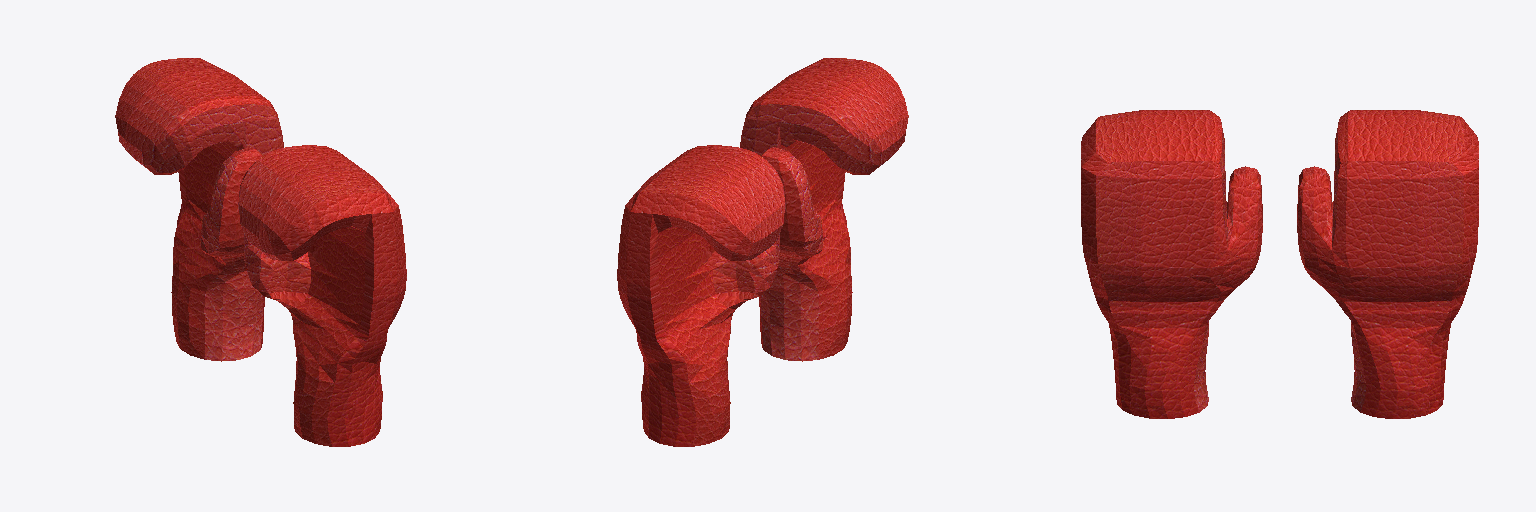
The picture shows the model from 3 angles: view 1: azimuth 30°, elevation 25°; view 2: azimuth 150°, elevation 25°; view 3: azimuth 270°, elevation 25°; orthographic projection.
Visible parts, largest first — view 1: Cube, Cube.015_Cube.017; view 2: Cube.015_Cube.017, Cube; view 3: Cube.015_Cube.017, Cube.
Part boxes in pixels (left/top/right/bottom): Cube: left=238, top=145, right=406, bottom=446; Cube.015_Cube.017: left=115, top=58, right=283, bottom=361; Cube.015_Cube.017: left=617, top=145, right=785, bottom=446; Cube: left=740, top=58, right=908, bottom=361; Cube.015_Cube.017: left=1297, top=110, right=1478, bottom=418; Cube: left=1081, top=110, right=1262, bottom=418.
Bounding box in the file's own units: 4.36 × 8.63 × 11.55.
1 materials, 1 textured.